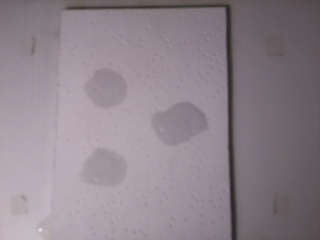Water_detected: (154, 102, 196, 141), (83, 155, 121, 189), (84, 75, 118, 112)
